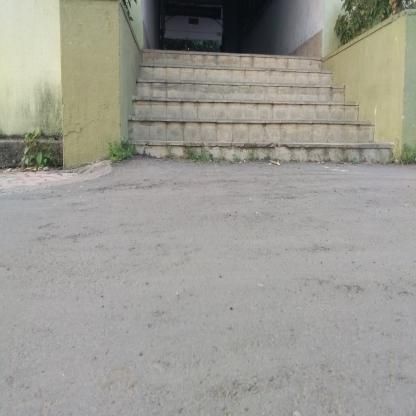stairs: (165, 61, 321, 175)
